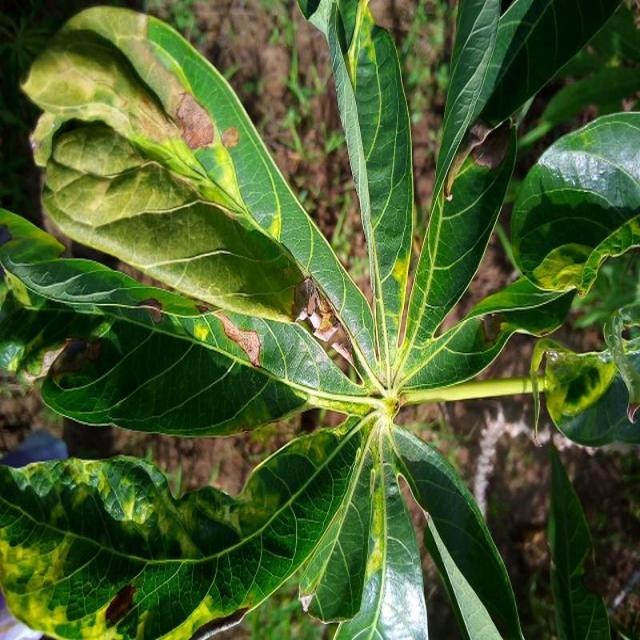cassava leaf: (1, 1, 636, 638), (18, 3, 381, 386)
